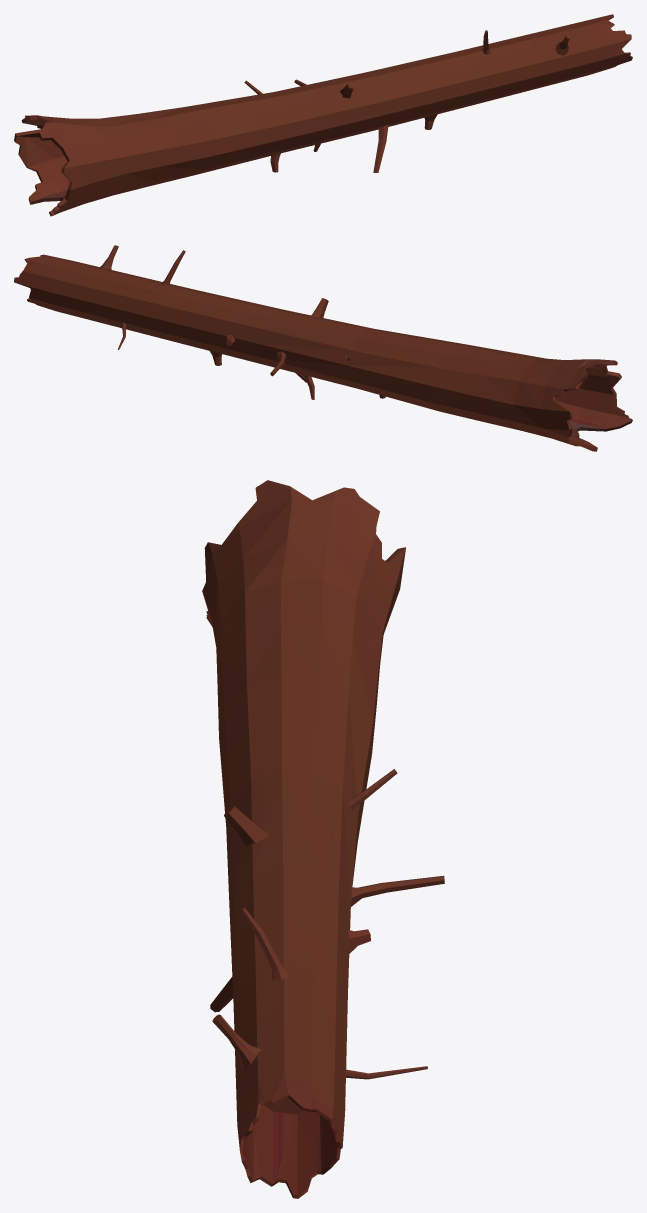
Rendered from Fallen_Tree_01.fbx.
3 views of the same model, one above another, from view 1: azimuth 30°, elevation 25°; view 2: azimuth 150°, elevation 25°; view 3: azimuth 270°, elevation 25° (orthographic). The views are drawn at different scales.
Parts seen in each view (by area): view 1: SM_Tree_Fallen_01.mo; view 2: SM_Tree_Fallen_01.mo; view 3: SM_Tree_Fallen_01.mo.
Part boxes in pixels (<box>): SM_Tree_Fallen_01.mo: <box>14,14,632,216</box>; SM_Tree_Fallen_01.mo: <box>14,245,632,451</box>; SM_Tree_Fallen_01.mo: <box>202,480,444,1198</box>.
Bounding box in the file's own units: 864 × 157 × 155.
